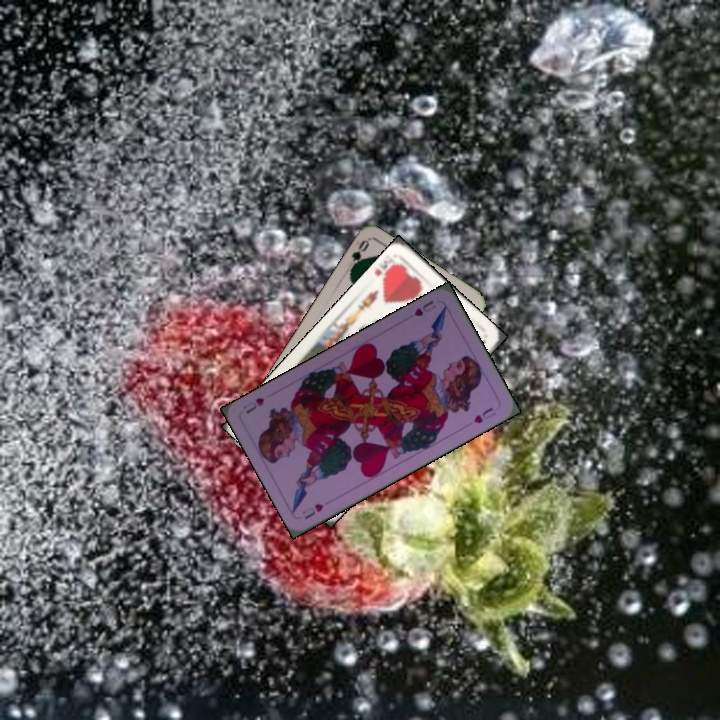GO: (346, 236, 372, 275)
HK: (371, 259, 403, 287)
HU: (410, 296, 439, 319), (298, 499, 326, 522)
